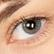eye: (22, 20, 41, 34)
